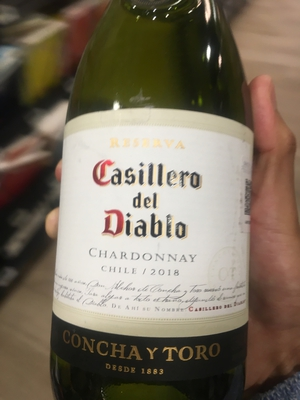casillero del diablo chardonnay: (52, 12, 277, 400)
